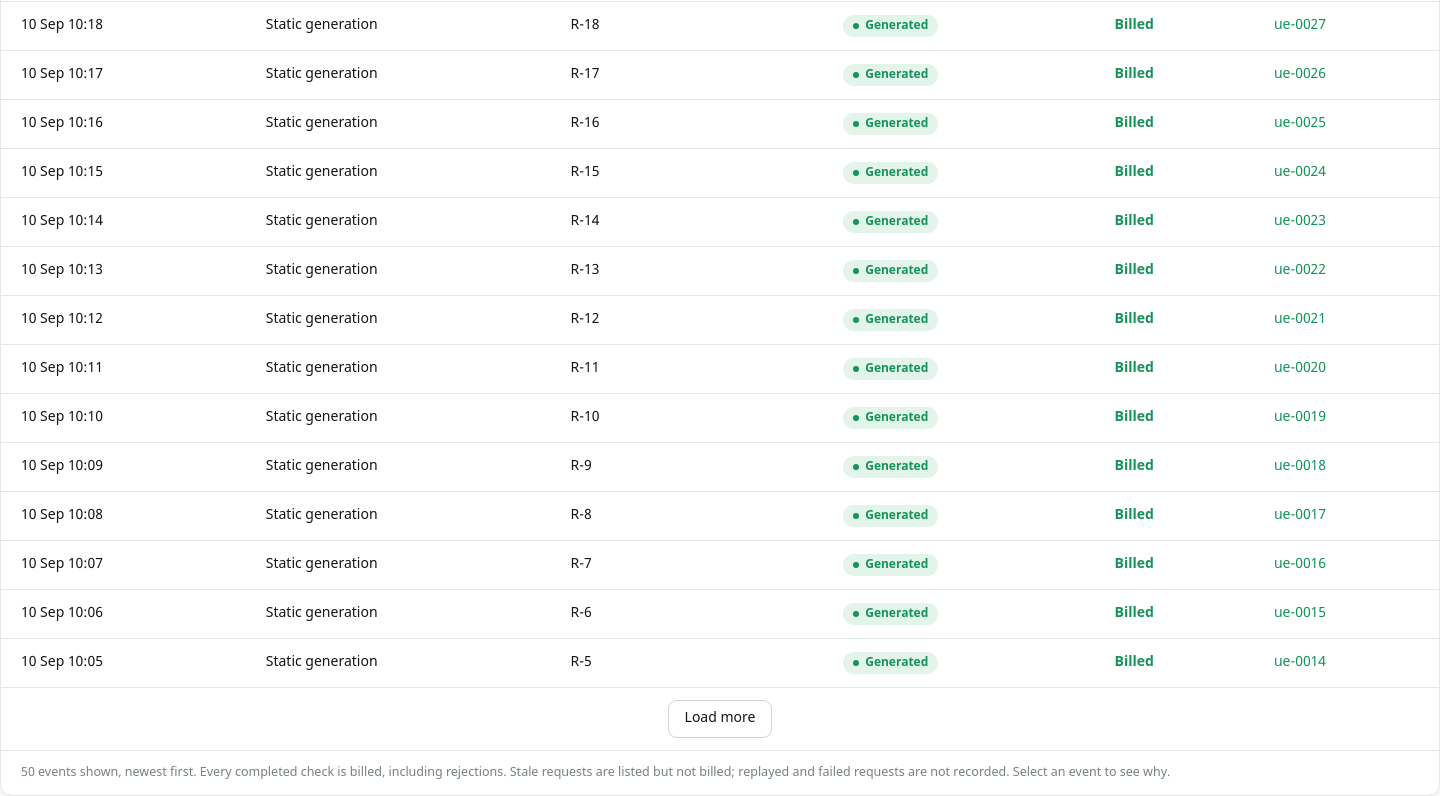
Test case: usage table reads the API › pages with a cursor: Load more appends the next page
(page scrolled)
Click the button "Load more".
click(720, 719)  # box [668, 700, 772, 738]
(page scrolled)
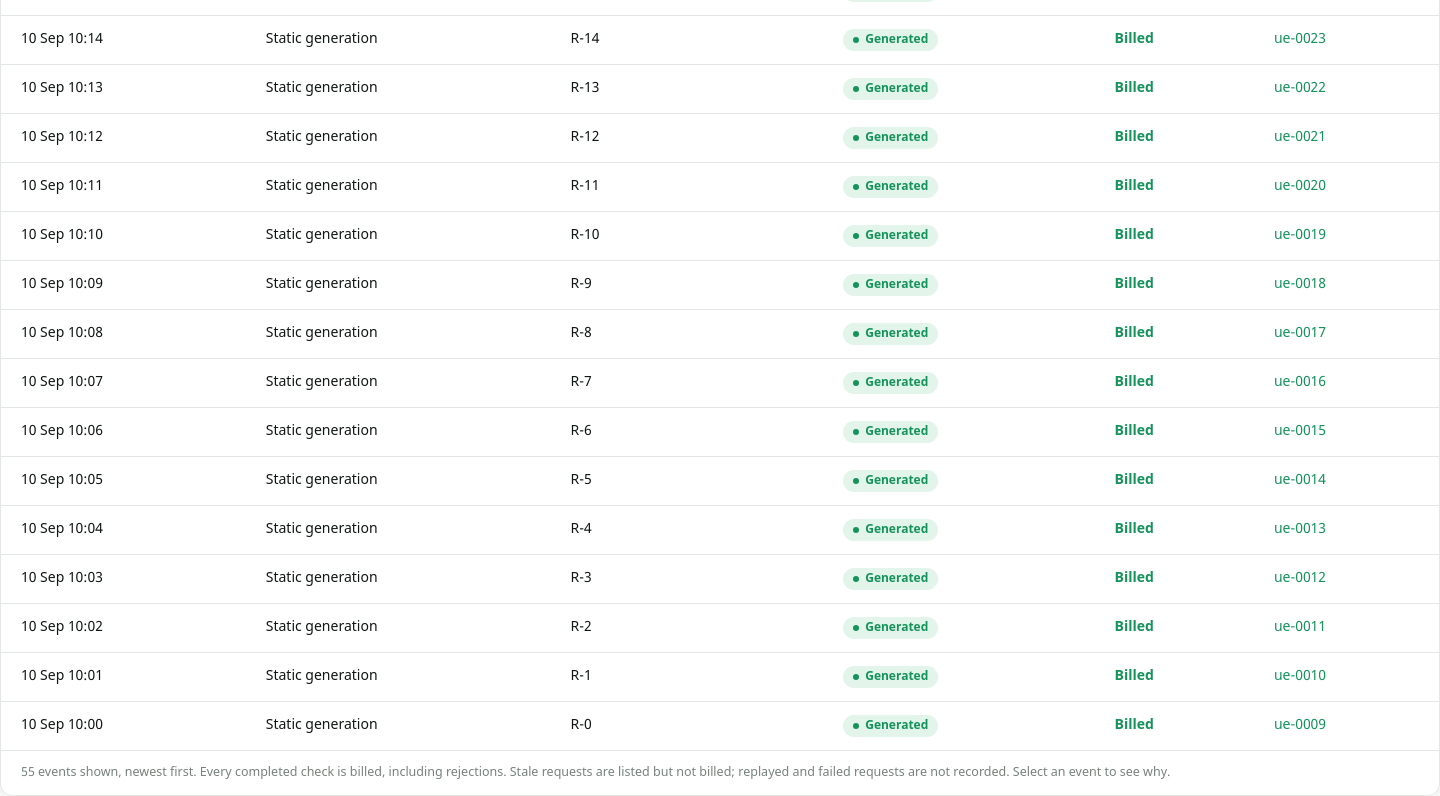
expect the button "Load more" is gone: met
expect the text "R-0" is shown: met, box [551, 702, 823, 750]
